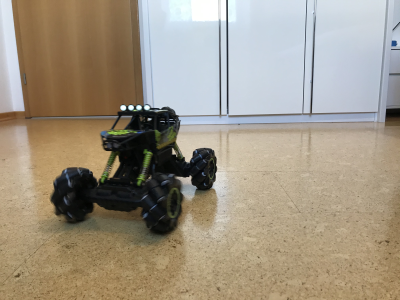remote control car: (47, 99, 218, 235)
